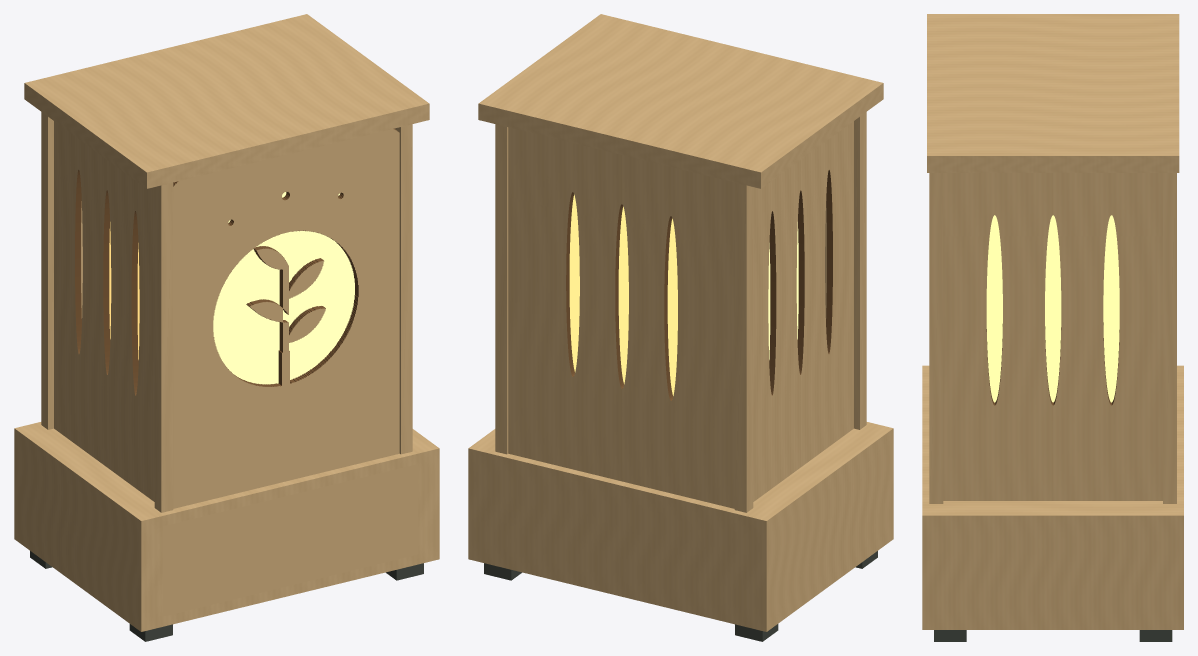
File: studio-lamp-botanical.glb
3 renders of one model, left to right at view 1: azimuth 30°, elevation 25°; view 2: azimuth 150°, elevation 25°; view 3: azimuth 270°, elevation 25°, orthographic. The views are drawn at different scales.
Parts seen in each view (by area): view 1: Front cut panel, Top cap, Fixed left panel, Solid birch base, Base engraving face, Corner frame (×3), Warm frosted inner light; view 2: Fixed back panel, Solid birch base, Top cap, Fixed left panel, Corner frame (×3), Warm frosted inner light; view 3: Fixed right panel, Top cap, Solid birch base, Corner frame (×2), Warm frosted inner light, Small foot (×2).
Part boxes in pixels (x1,y1,x2,y2): Front cut panel: (173, 128, 399, 508); Top cap: (24, 14, 429, 188); Fixed left panel: (54, 121, 154, 501); Solid birch base: (14, 422, 439, 631); Base engraving face: (163, 464, 418, 616); Corner frame (×3): (41, 112, 412, 512); Warm frosted inner light: (109, 192, 354, 384); Fixed back panel: (508, 127, 734, 508); Solid birch base: (468, 422, 893, 631); Top cap: (478, 14, 883, 188); Fixed left panel: (753, 121, 853, 501); Corner frame (×3): (495, 112, 866, 512); Warm frosted inner light: (569, 194, 798, 395); Fixed right panel: (943, 173, 1162, 500); Top cap: (927, 14, 1179, 172); Solid birch base: (922, 365, 1183, 629); Corner frame (×2): (929, 173, 1176, 503); Warm frosted inner light: (986, 215, 1119, 402); Small foot (×2): (934, 630, 1172, 641).
Bounding box in the file's own units: 0.152 × 0.23 × 0.1122.
7 materials, 2 textured.
